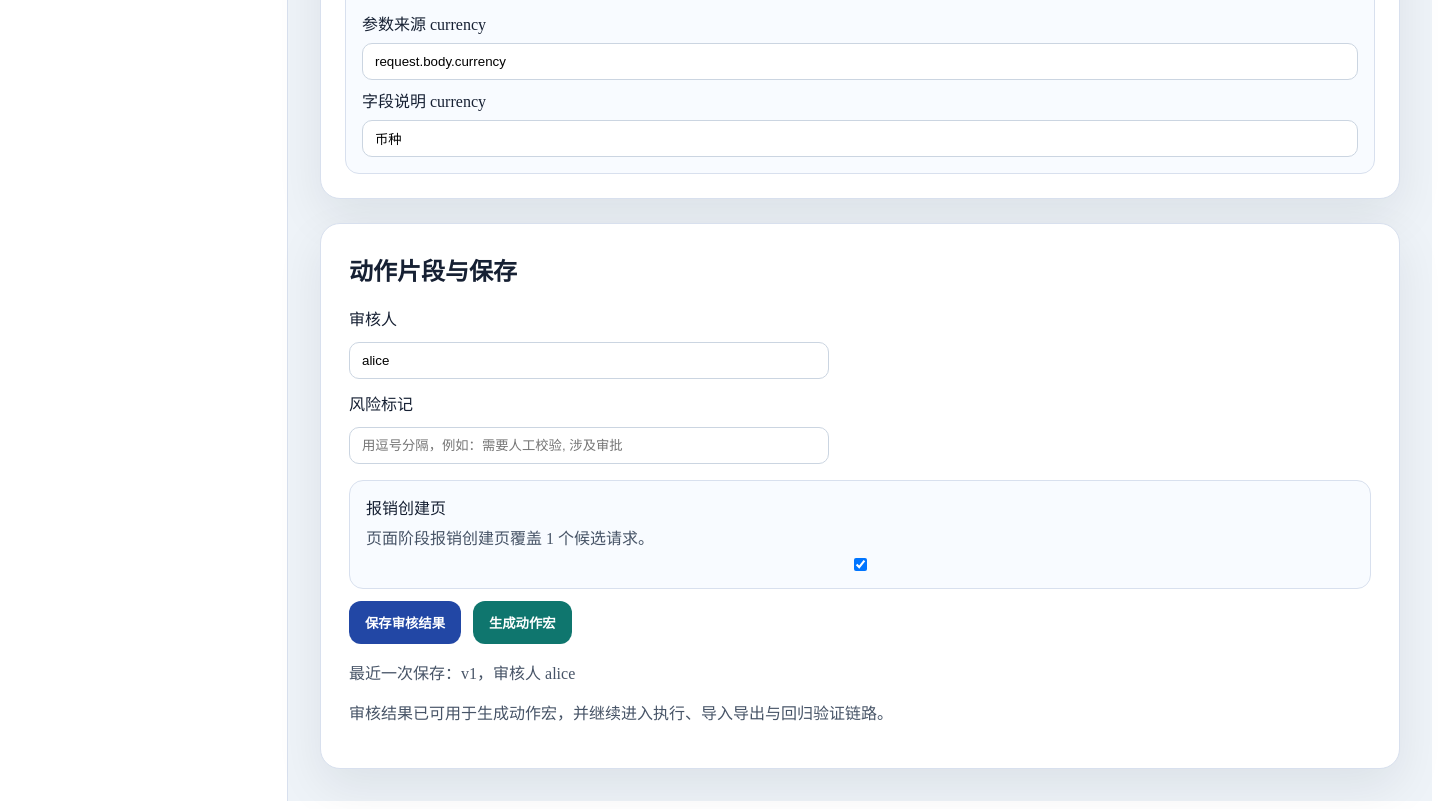
App › generates an action macro from reviewed metadata and opens the action detail page
The width and height of the screenshot is (1440, 809).
(page scrolled)
What coordinates should you click on to do the following:
click the button "生成动作宏"
I would click on:
 (522, 623)
Its box is x1=473 y1=601 x2=572 y2=644.
(page scrolled)
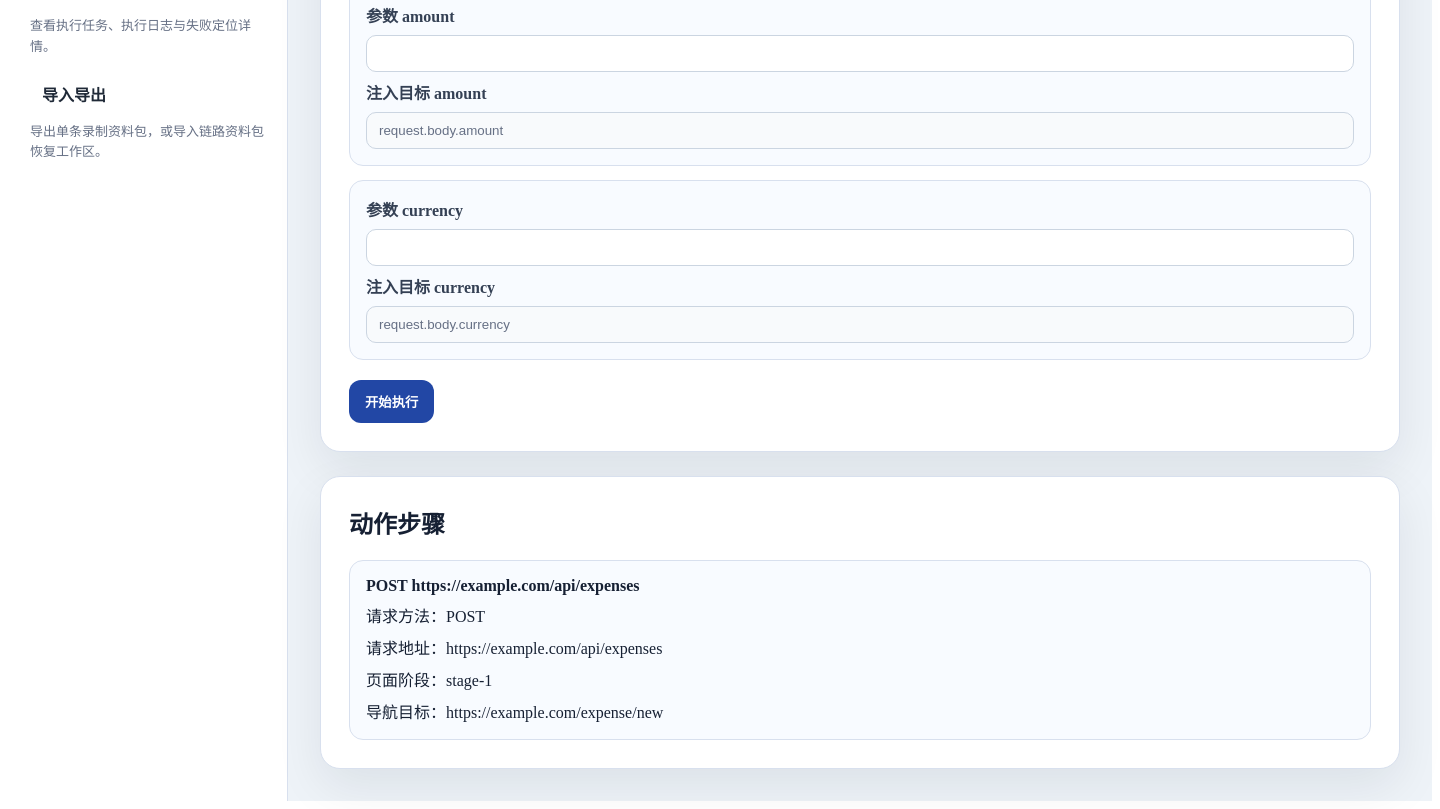
Result: the field showing "request.body.amount" is shown at x1=366 y1=112 x2=1354 y2=149
Result: the button "开始执行" is shown at x1=349 y1=380 x2=434 y2=423
